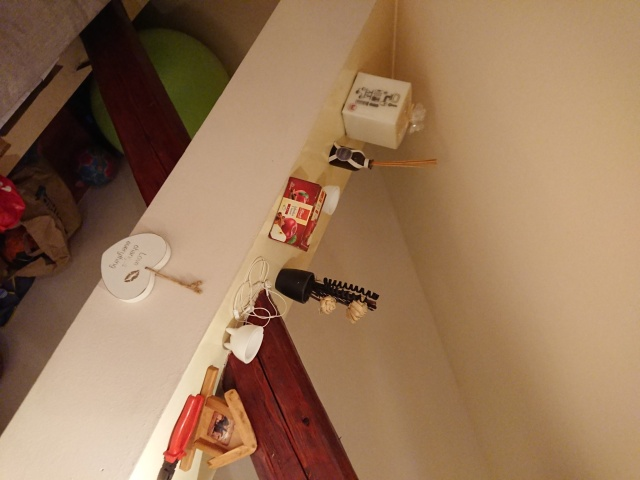Franck Apple Cinnamon Tea 60g: (265, 173, 329, 254)
